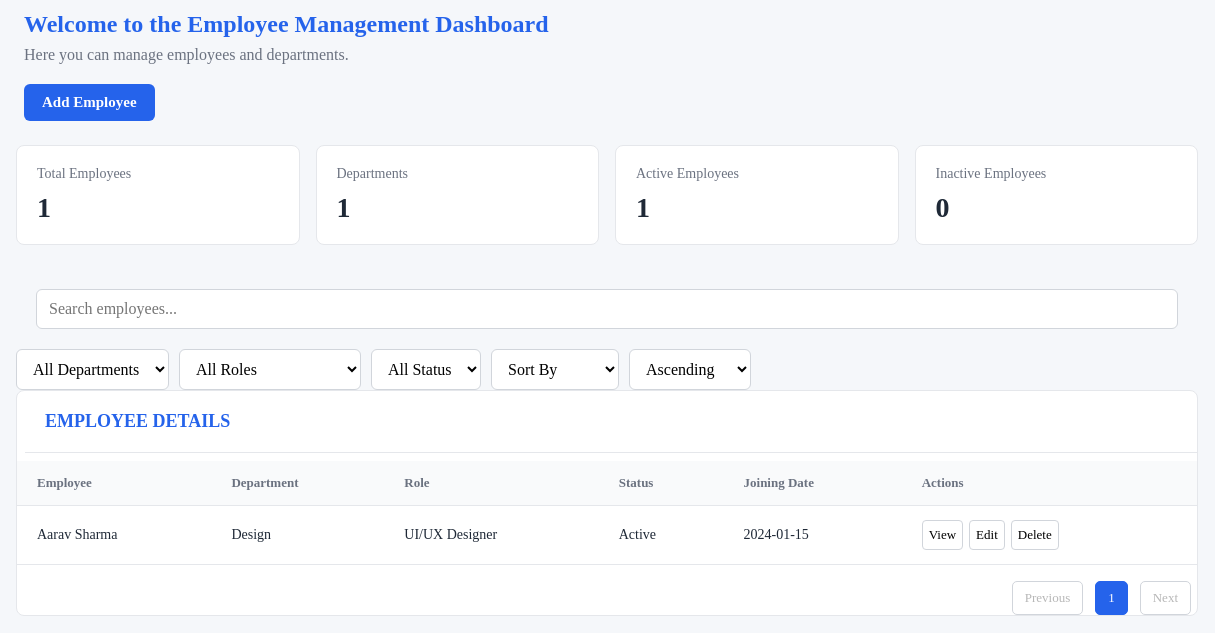
Test: Filter › should display no results when filters have no matching employees
Select "Engineering" in the 1st dropdown showing "All Departments" at (92, 370), box [16,349,169,390]
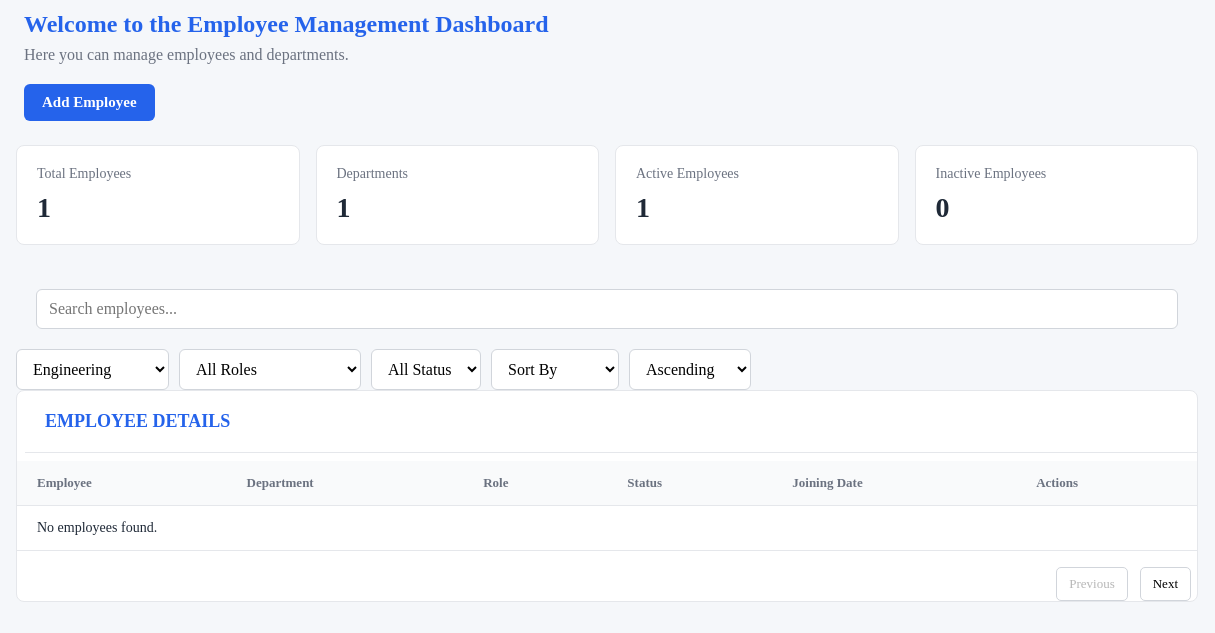
Expected: the text "No employees found." is shown, [37,520,157,535]
